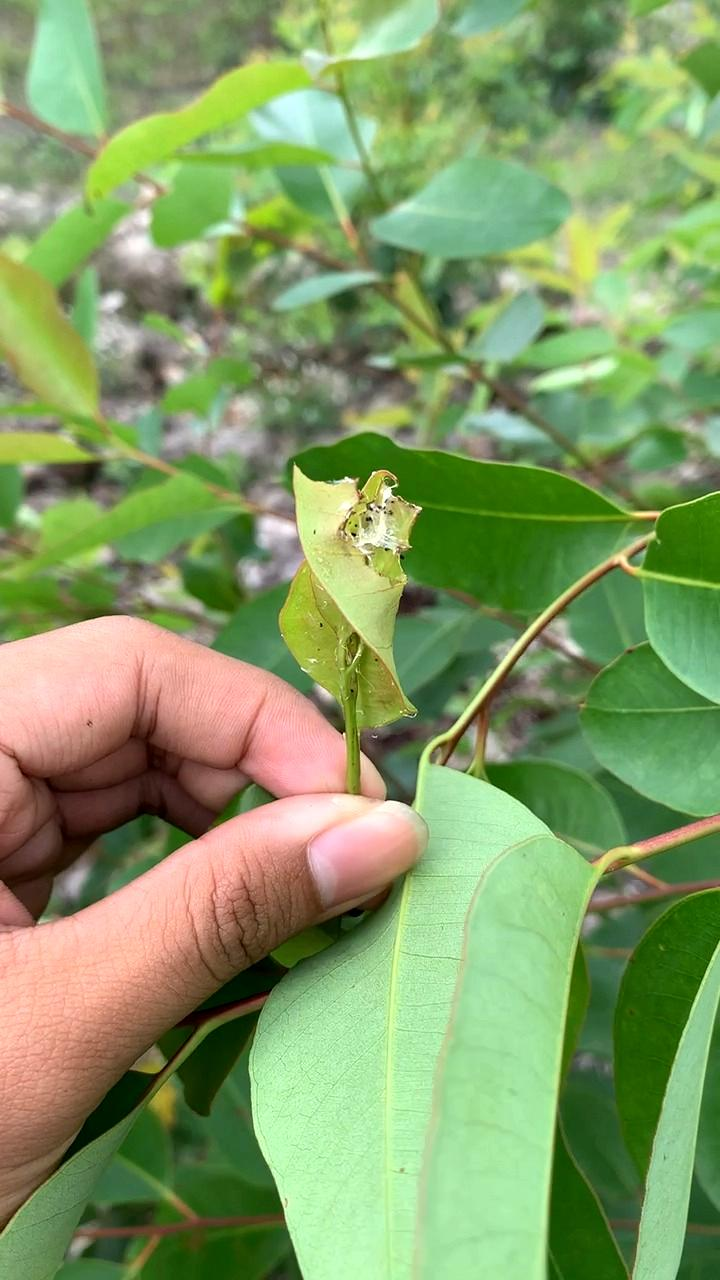Leaf Roller - Leaf: (261, 440, 438, 750)
